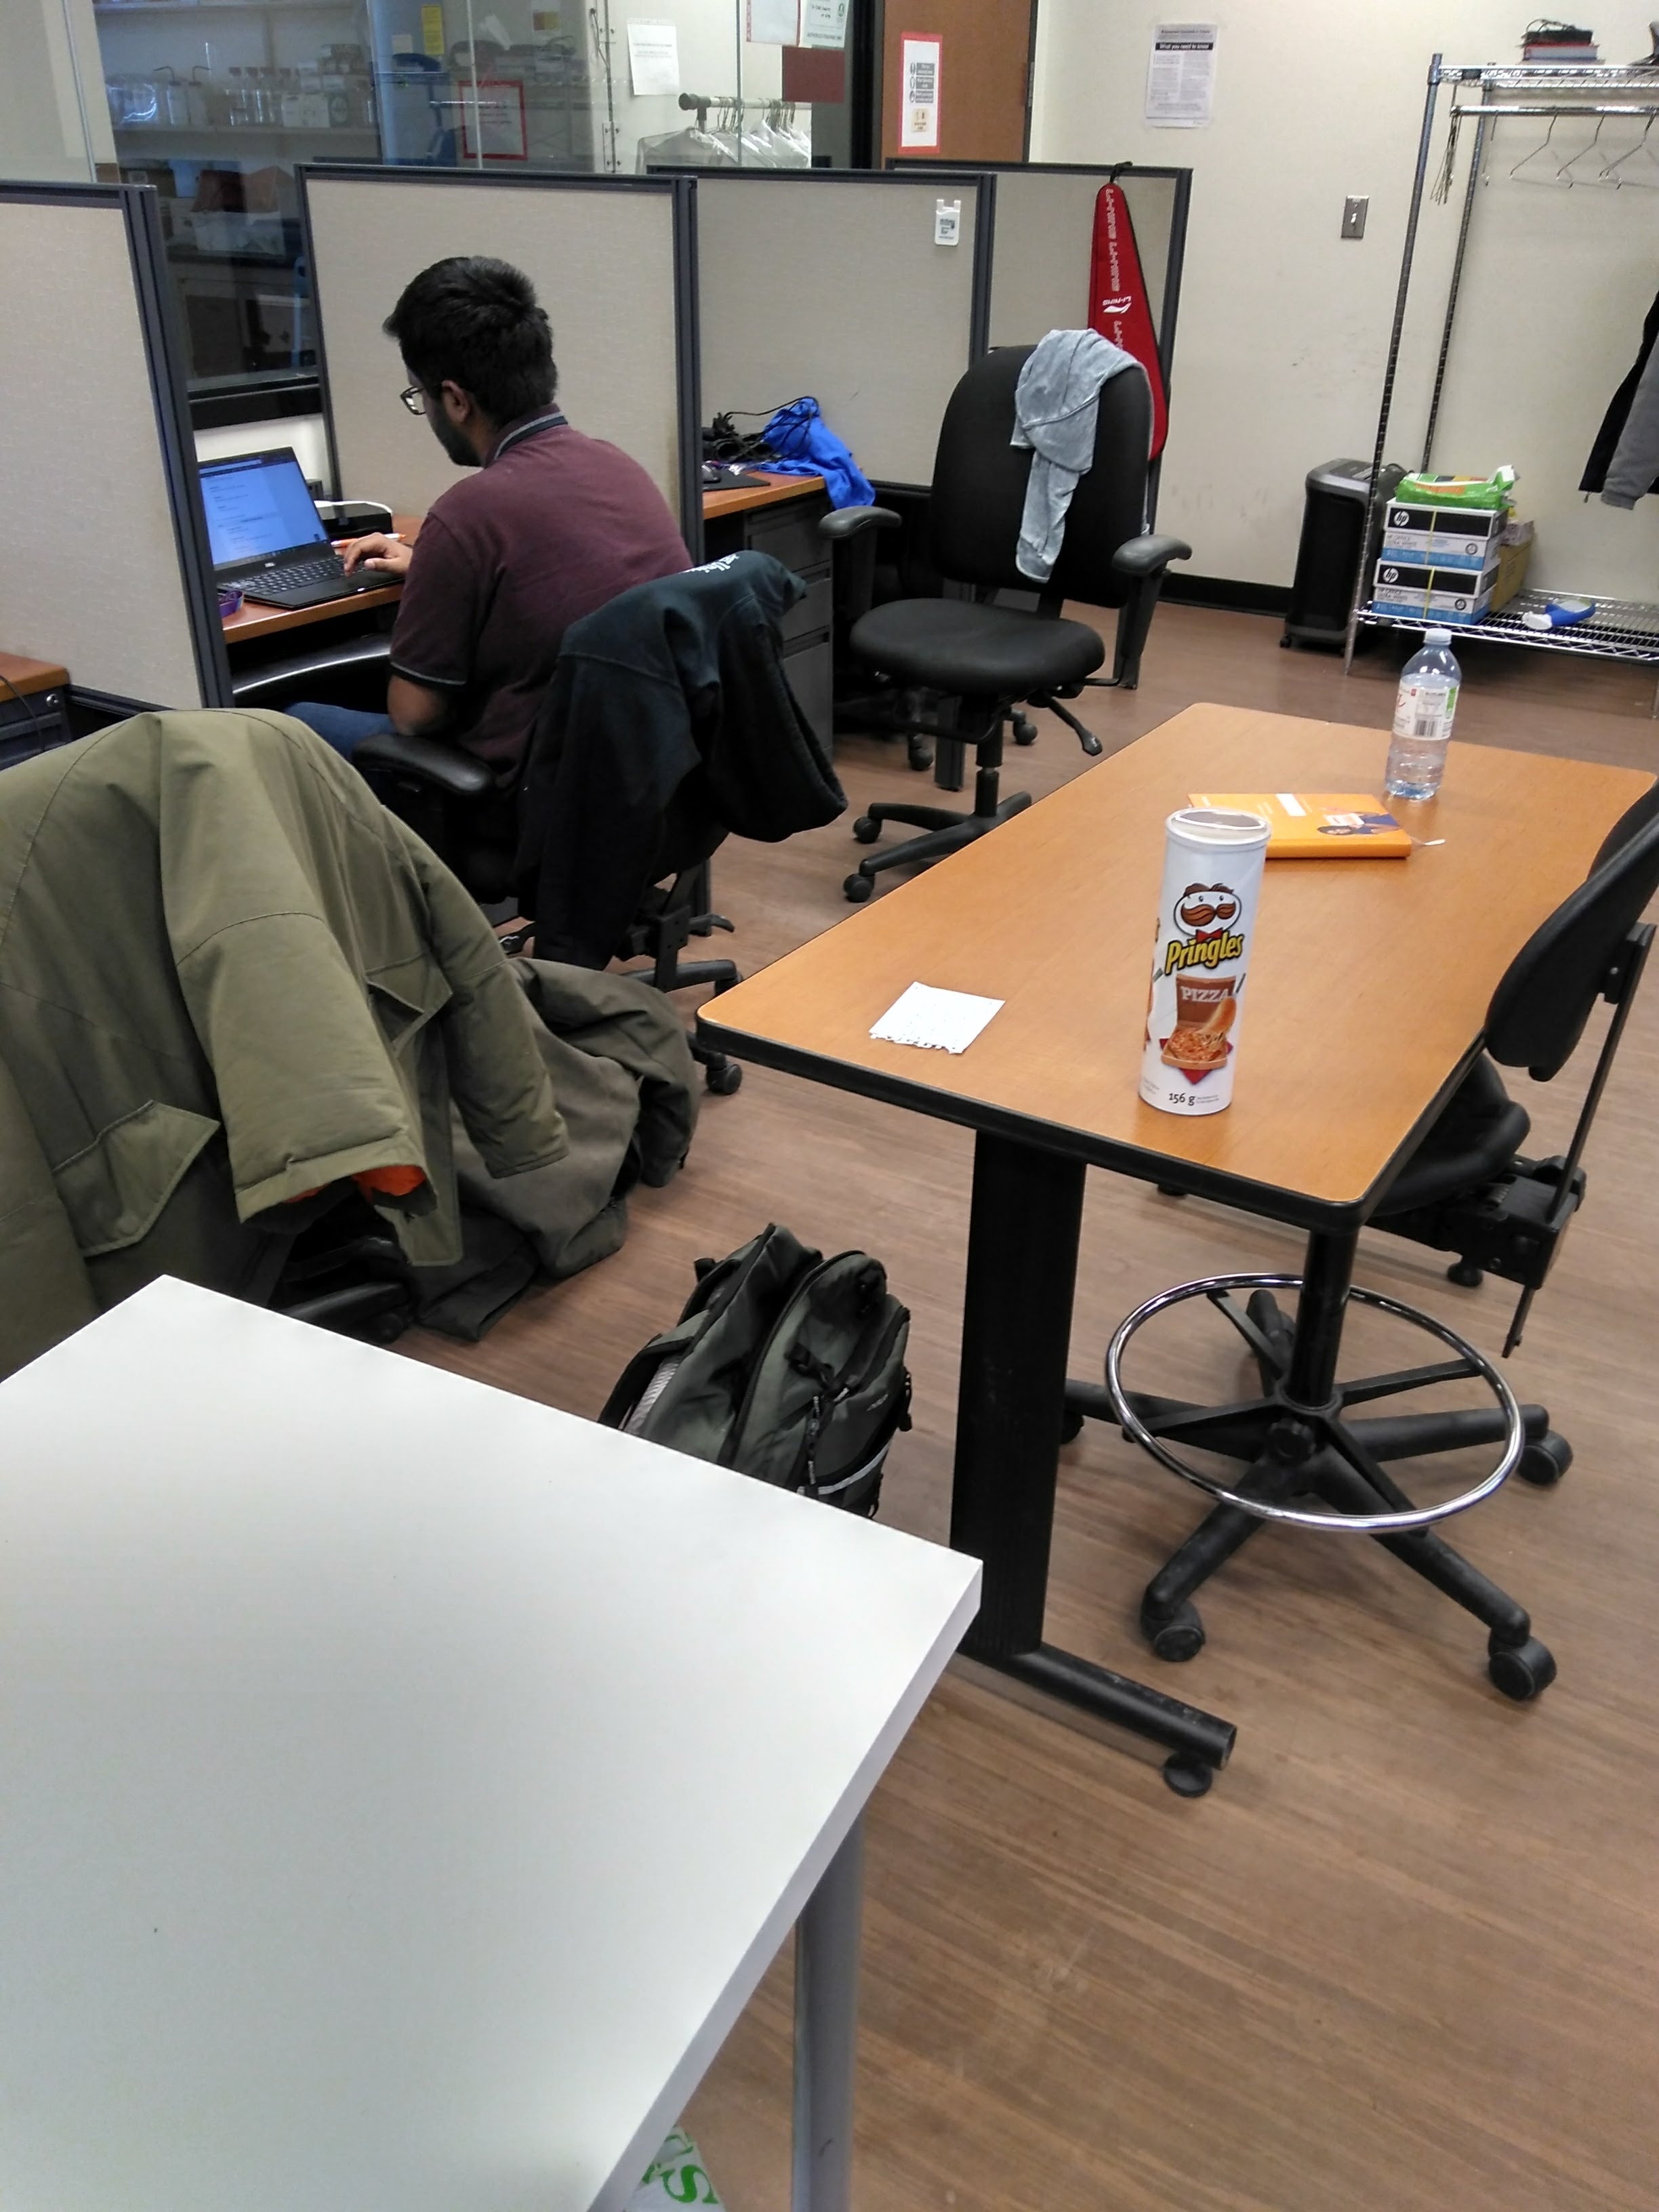pringles: (1133, 784, 1272, 1150)
